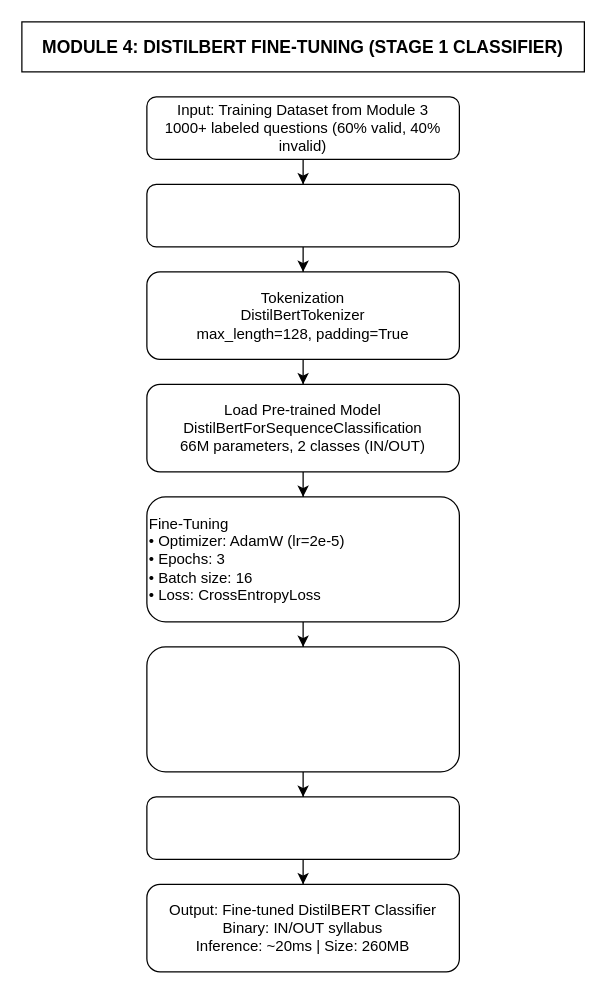
The diagram is 606 pixels wide and 994 high, and some of its shapes have lost their labels. Here are the shapes that lost their labels. From the top down, the box of each, then its label:
(146, 183, 459, 247): Load & Split Dataset Train: 80% | Val: 10% | Test: 10%
(146, 646, 459, 772): Model Evaluation • Accuracy: 95% • Precision: 96% • Recall: 94% • F1 Score: 95%
(146, 796, 459, 859): Save Model Weights subjects/{subject_id}/models/distilbert_classifier/
